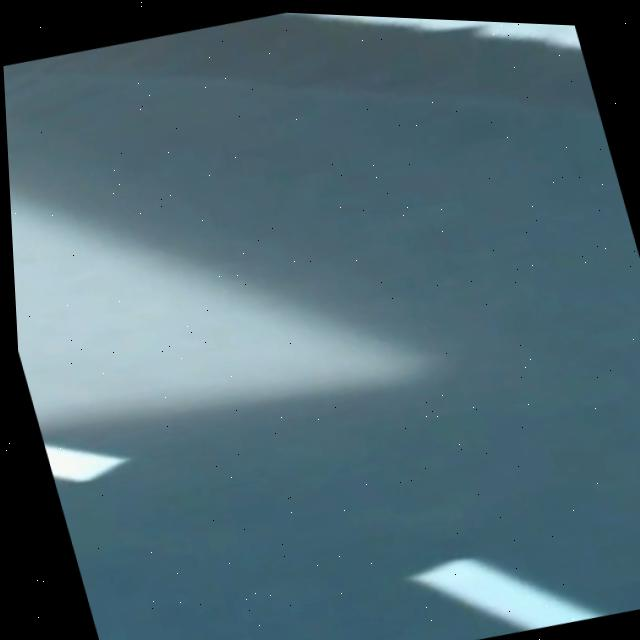center: (410, 559, 605, 630), (43, 445, 125, 482)
right: (278, 13, 580, 47)
